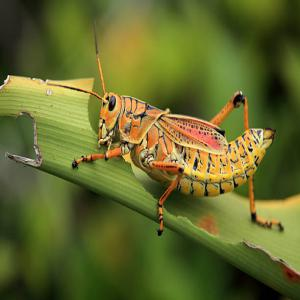locust: (65, 58, 300, 243)
